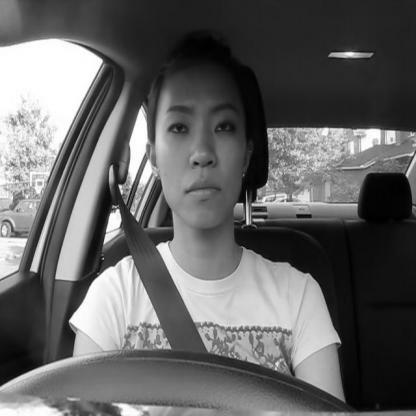seatbelt: (102, 14, 264, 366)
